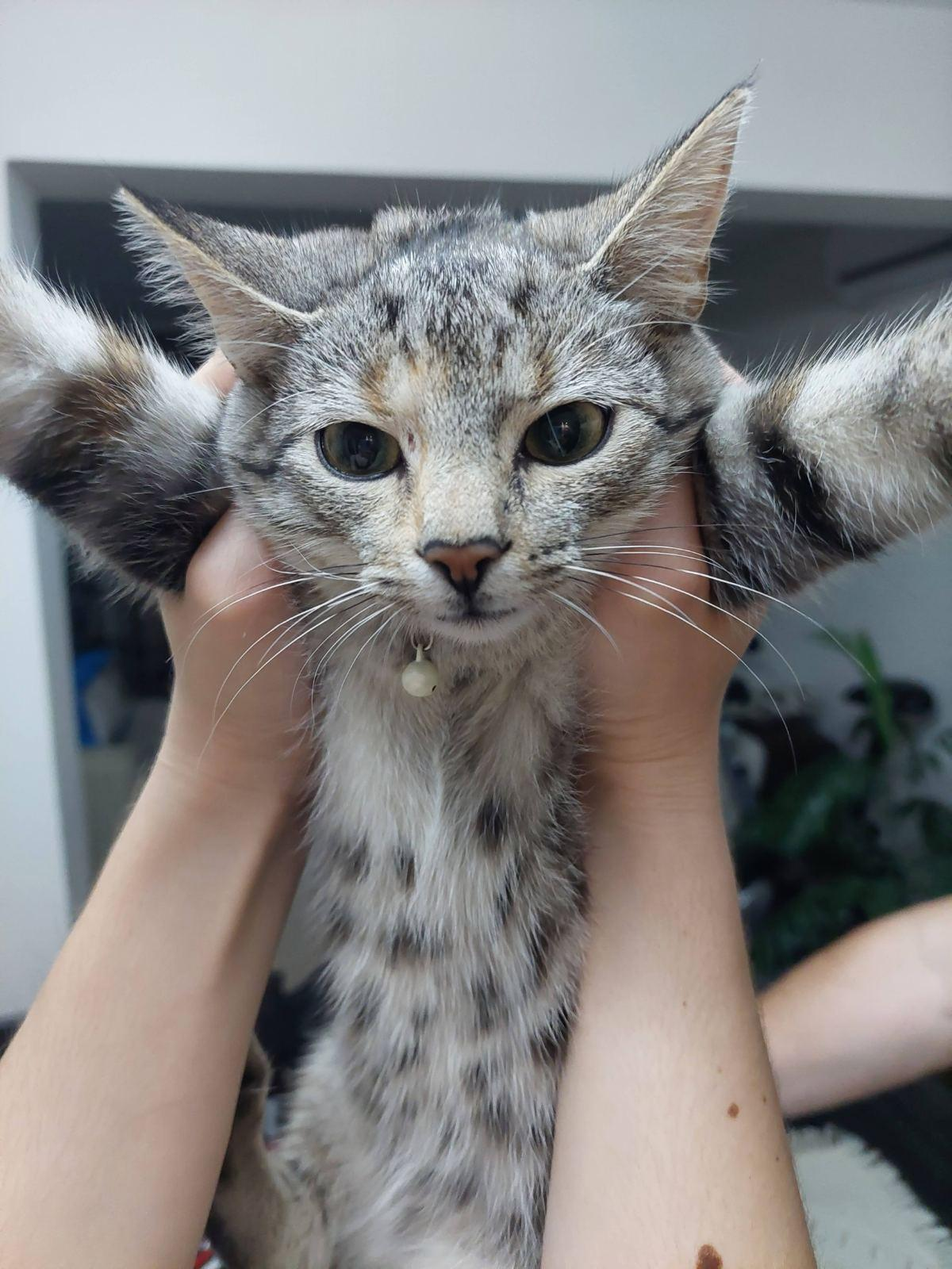macka: (0, 73, 951, 1268)
